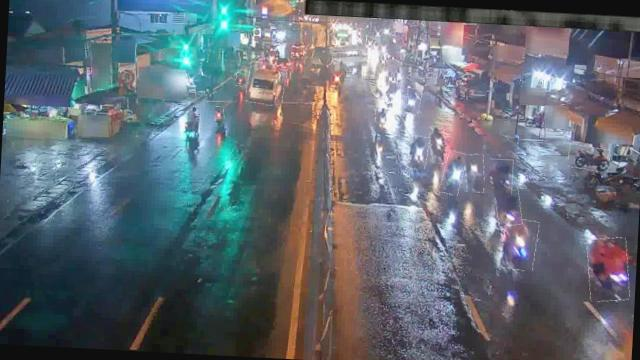Bike: (585, 236, 630, 302), (500, 218, 538, 271), (440, 150, 465, 196), (567, 145, 610, 171), (494, 189, 522, 226), (488, 158, 514, 194), (428, 124, 448, 164), (464, 154, 485, 192), (406, 136, 428, 170), (182, 102, 200, 134), (404, 87, 421, 114), (374, 108, 388, 134), (383, 80, 398, 103), (234, 68, 248, 86), (203, 76, 214, 96), (214, 106, 224, 123)
Bus: (246, 61, 286, 105)
